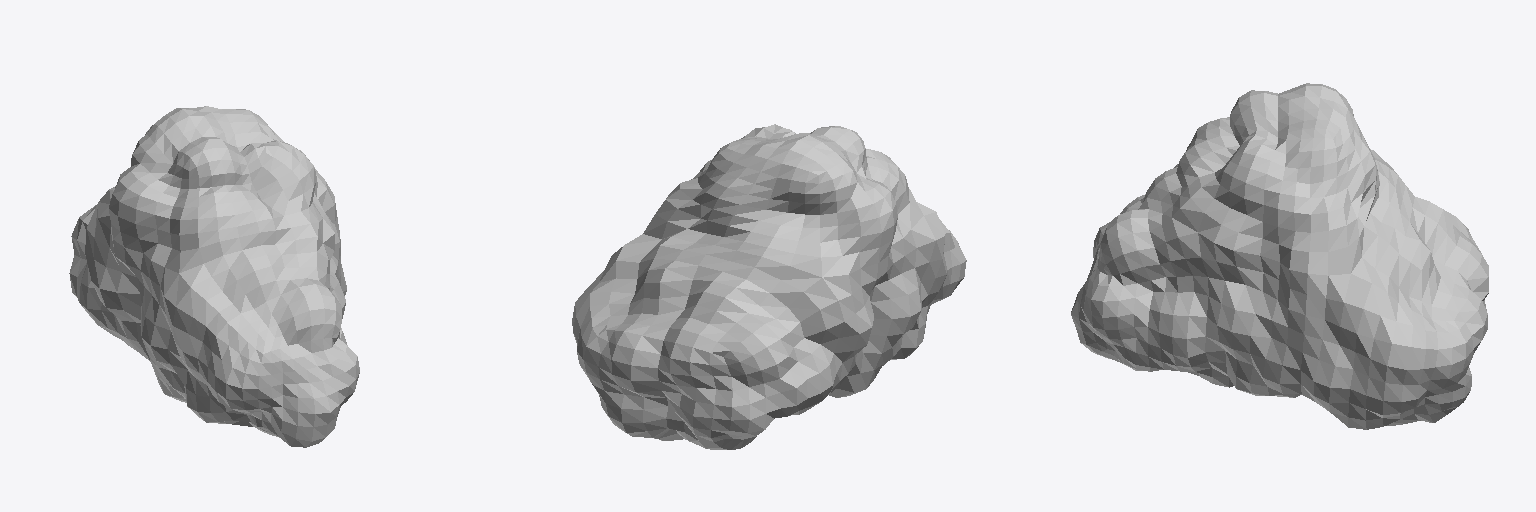
The model's file is cloud3.obj.
3 renders of one model, left to right at view 1: azimuth 30°, elevation 25°; view 2: azimuth 150°, elevation 25°; view 3: azimuth 270°, elevation 25°, orthographic.
Parts seen in each view (by area): view 1: Cube; view 2: Cube; view 3: Cube.
Part boxes in pixels (x1,y1,x2,y2): Cube: (69, 106, 359, 447); Cube: (572, 124, 966, 449); Cube: (1071, 83, 1488, 429).
Bounding box in the file's own units: 4.36 × 4.55 × 5.98.